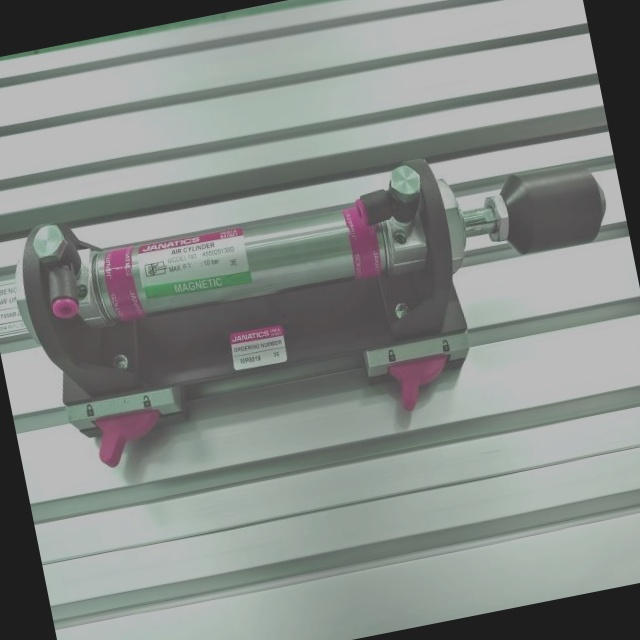double acting pneumatic cylinder: (1, 112, 637, 488)
push button: (2, 114, 638, 482)
